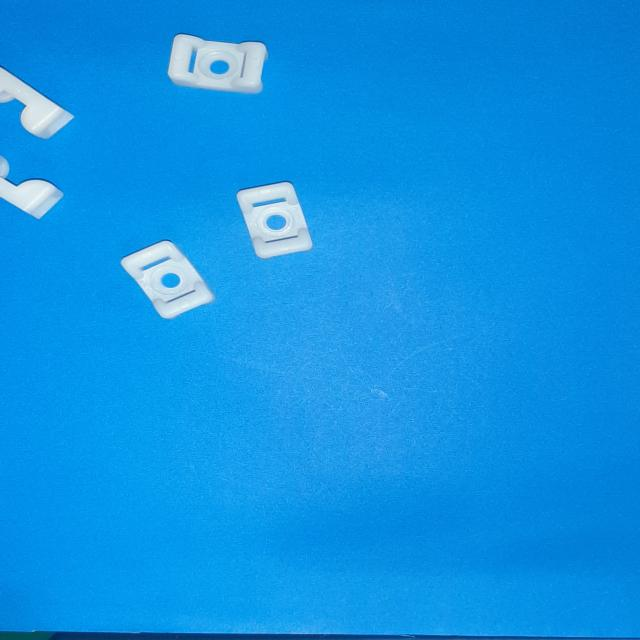false_2: (0, 68, 73, 139), (0, 152, 65, 219), (0, 158, 63, 219)
true: (122, 241, 215, 319), (237, 181, 313, 259), (168, 35, 265, 92)
true_center: (265, 215, 287, 230), (162, 274, 180, 288), (210, 61, 228, 74)
